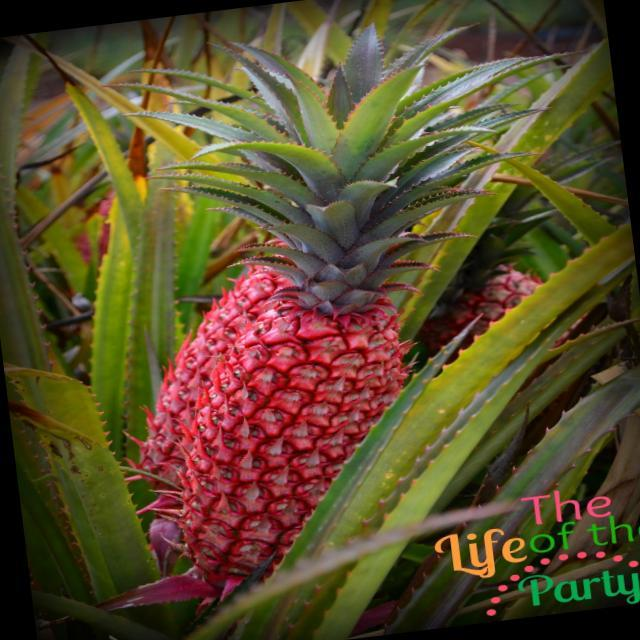PINEAPLE: (82, 104, 434, 570)
